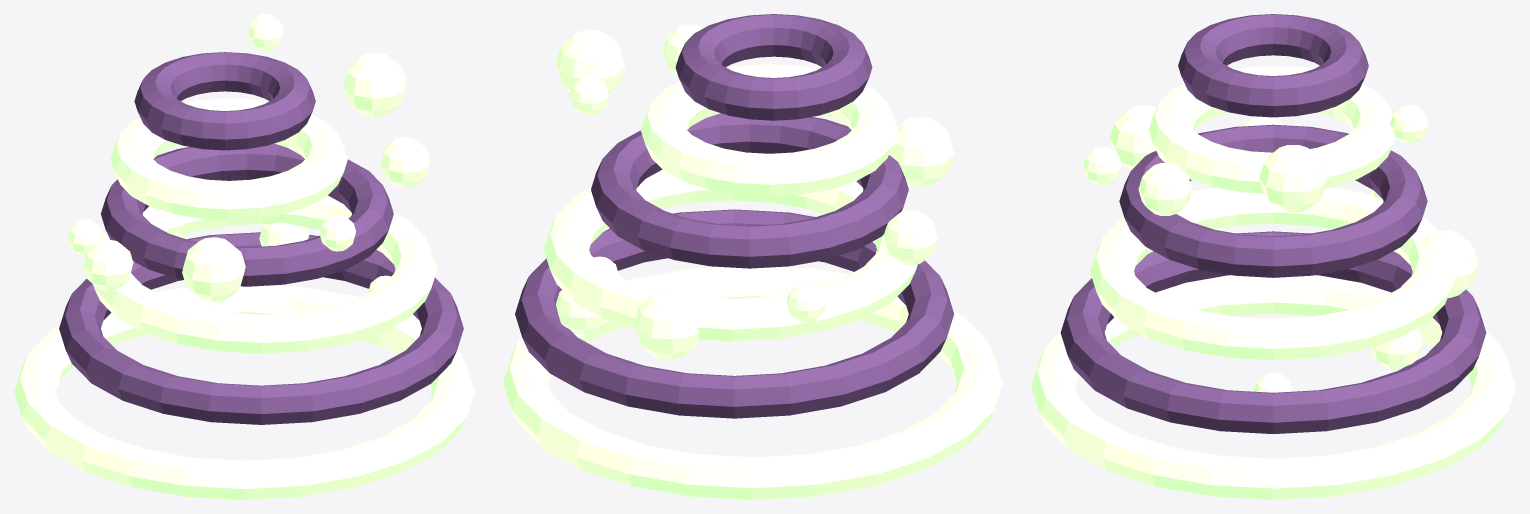
Rendered from poison.glb.
3 views of the same model, side by side, from view 1: azimuth 30°, elevation 25°; view 2: azimuth 150°, elevation 25°; view 3: azimuth 270°, elevation 25° (orthographic). The views are drawn at different scales.
Visible parts, largest first — view 1: poison; view 2: poison; view 3: poison.
Boxes of the visible parts, x1,y1,x2,y2 form: poison: [14, 14, 474, 499]; poison: [503, 14, 1002, 499]; poison: [1031, 14, 1515, 499].
Bounding box in the file's own units: 1.98 × 1.58 × 1.98.
